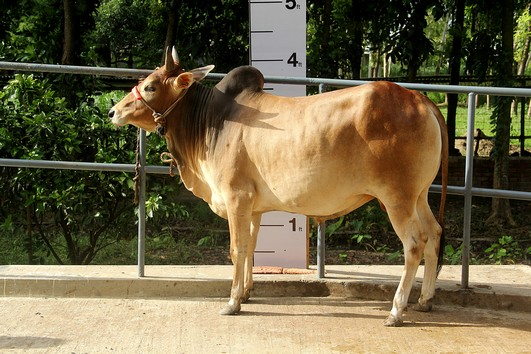cow: (103, 39, 459, 325)
